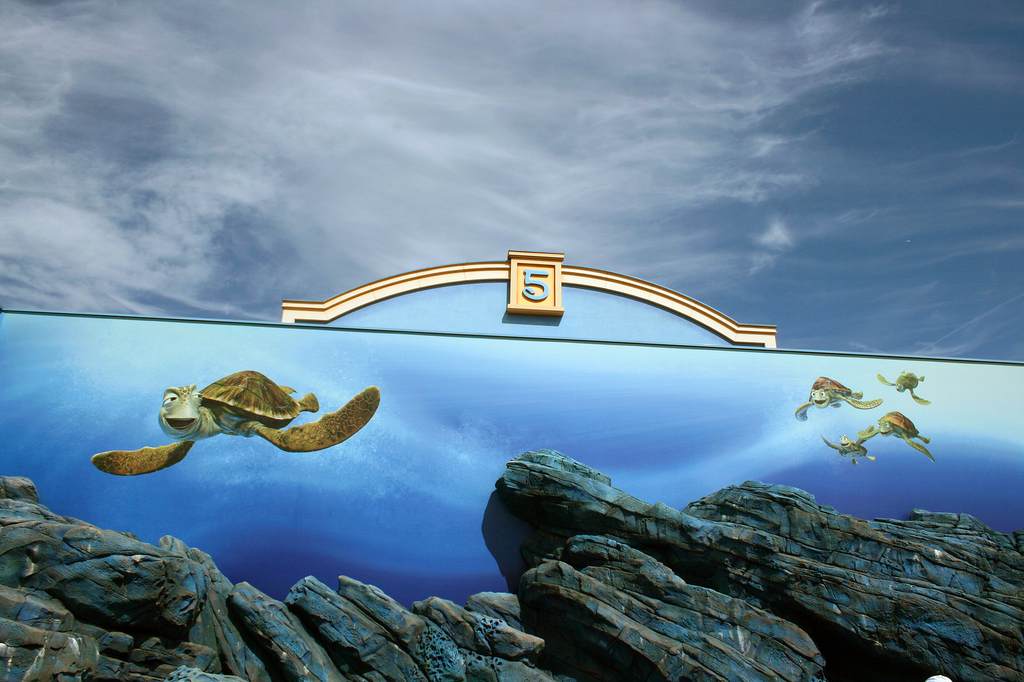Sea turtles: (88, 366, 378, 481), (853, 408, 936, 463), (792, 374, 885, 420), (873, 365, 932, 407), (824, 424, 877, 466)
